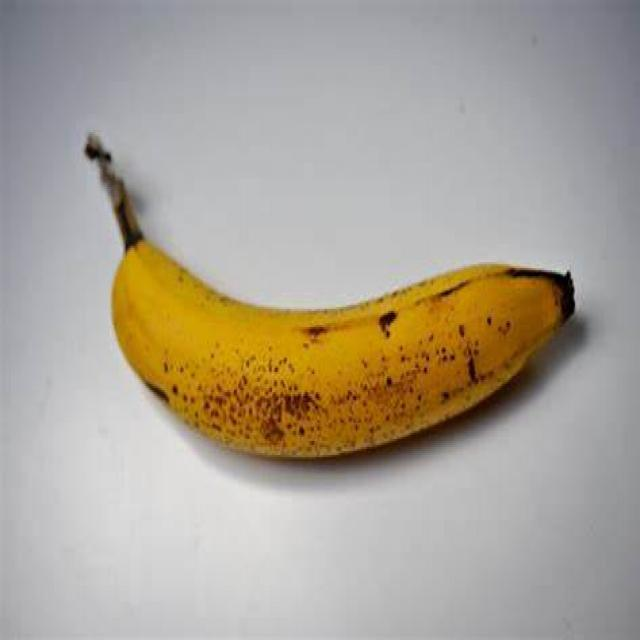Banana: (80, 145, 586, 467)
